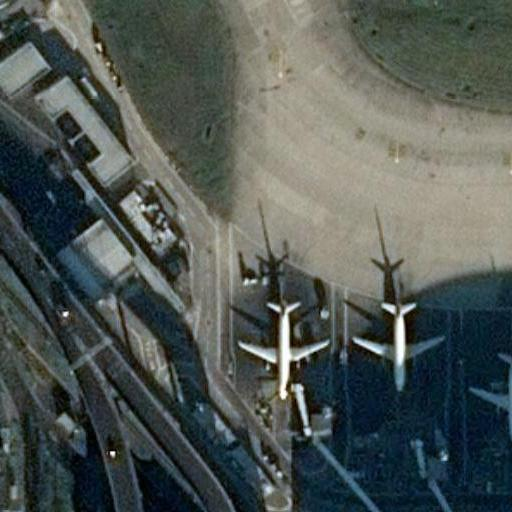Aircraft: (236, 294, 331, 400), (350, 296, 446, 391), (466, 346, 512, 444)
